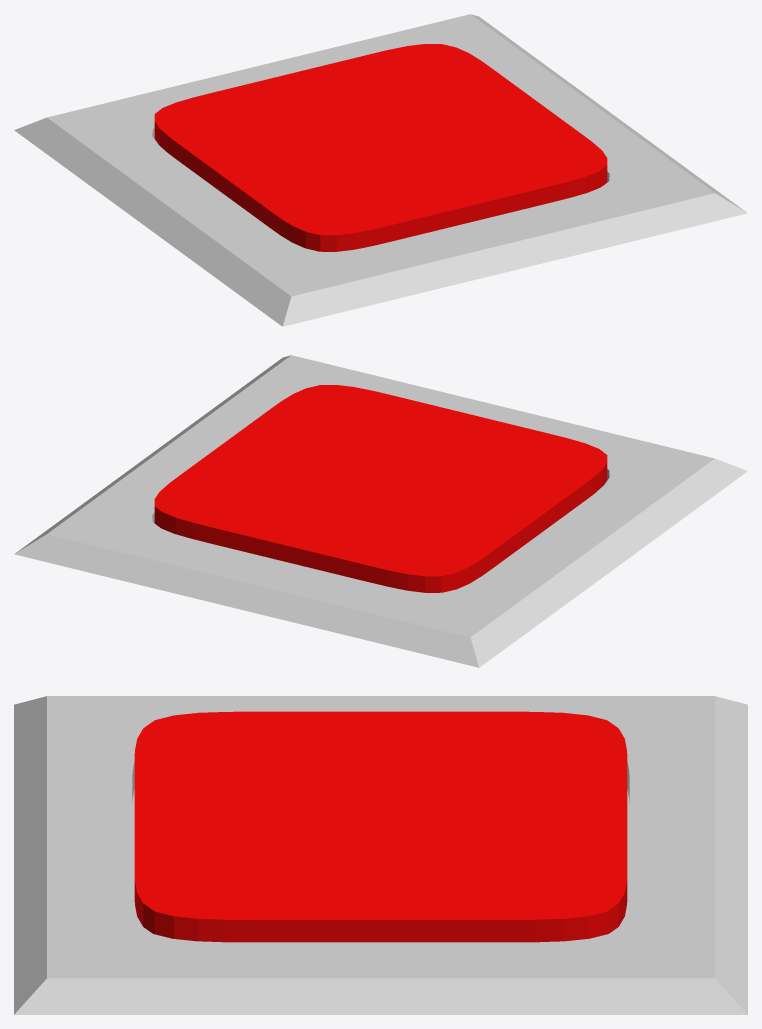
The model's file is props.fbx_B6.fbx.
3 renders of one model, top to bottom at view 1: azimuth 30°, elevation 25°; view 2: azimuth 150°, elevation 25°; view 3: azimuth 270°, elevation 25°, orthographic. The views are drawn at different scales.
Parts seen in each view (by area): view 1: Plane.005, Plane.006; view 2: Plane.005, Plane.006; view 3: Plane.005, Plane.006.
Boxes of the visible parts, left/top/right/bottom form: Plane.005: left=14, top=14, right=747, bottom=326; Plane.006: left=154, top=44, right=607, bottom=251; Plane.005: left=14, top=355, right=747, bottom=667; Plane.006: left=154, top=385, right=607, bottom=592; Plane.005: left=14, top=696, right=747, bottom=1014; Plane.006: left=134, top=711, right=627, bottom=942.
Bounding box in the file's own units: 1.5 × 0.1111 × 1.5.
